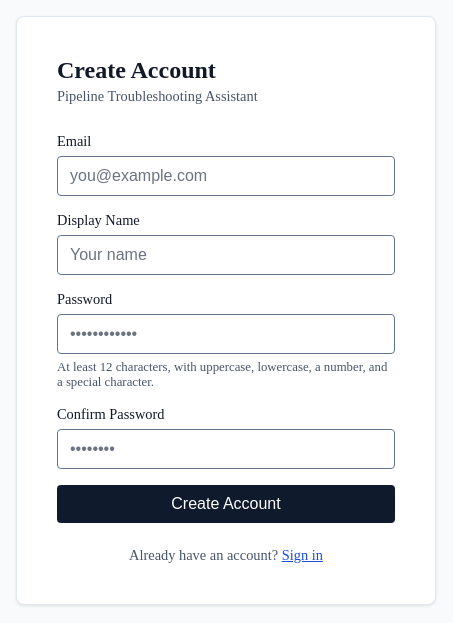
Test case: RegisterPage form submission › disables submit button while loading
The image size is (453, 623).
Type "new@example.com" into the field labelled "Email" at x=226, y=176, box [57,156,395,196]
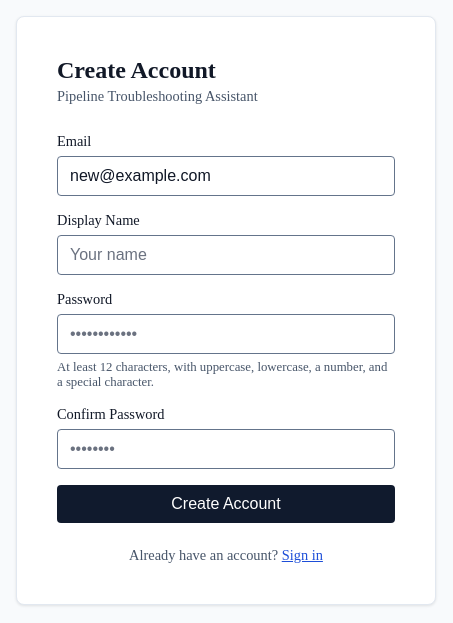
Type "New User" into the field labelled "Display Name" at x=226, y=254, box [57,234,395,274]
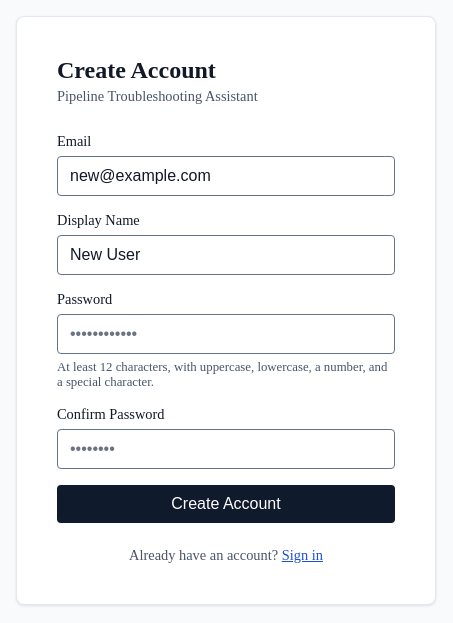
Type "SecurePass1!" into the password field labelled "Password" at x=226, y=334, box [57,314,395,354]
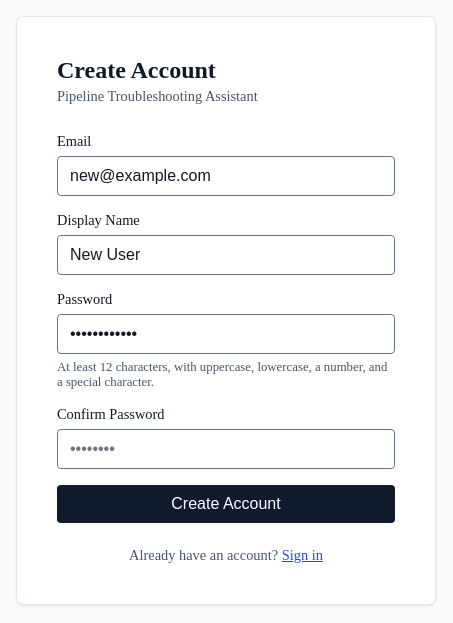
Type "SecurePass1!" into the password field labelled "Confirm Password" at x=226, y=448, box [57,428,395,468]
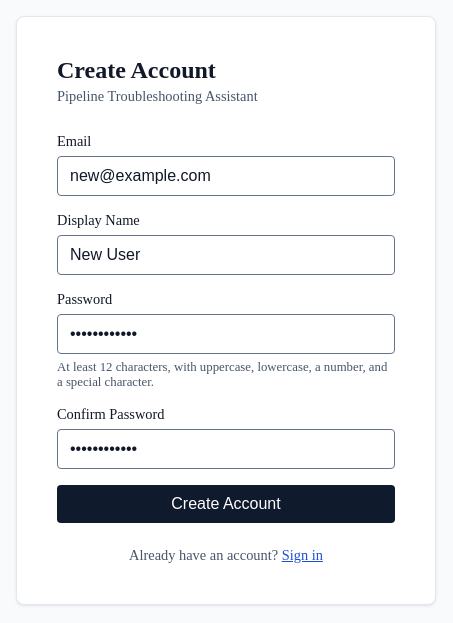
Click the button "Create Account" at x=226, y=504, box [57,484,395,522]
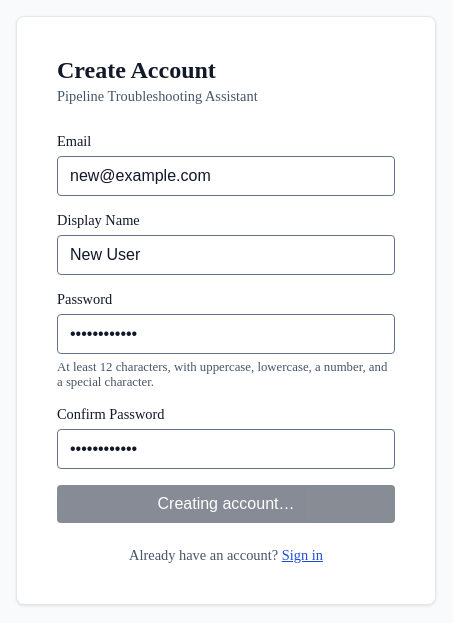
expect the button "Creating account…" is disabled: met, box [57,484,395,522]
